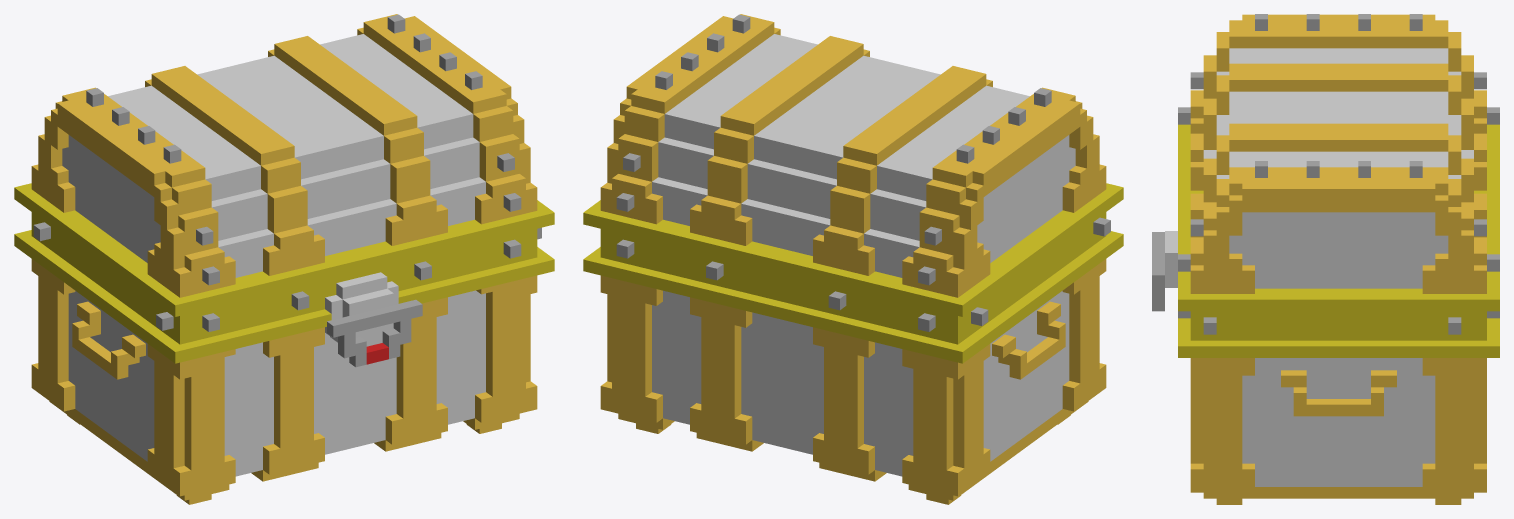
Rendered from chest_1.obj.
3 views of the same model, side by side, from view 1: azimuth 30°, elevation 25°; view 2: azimuth 150°, elevation 25°; view 3: azimuth 270°, elevation 25° (orthographic).
Bounding box in the file's own units: 3.4 × 2.9 × 2.7.
1 material, 1 textured.
